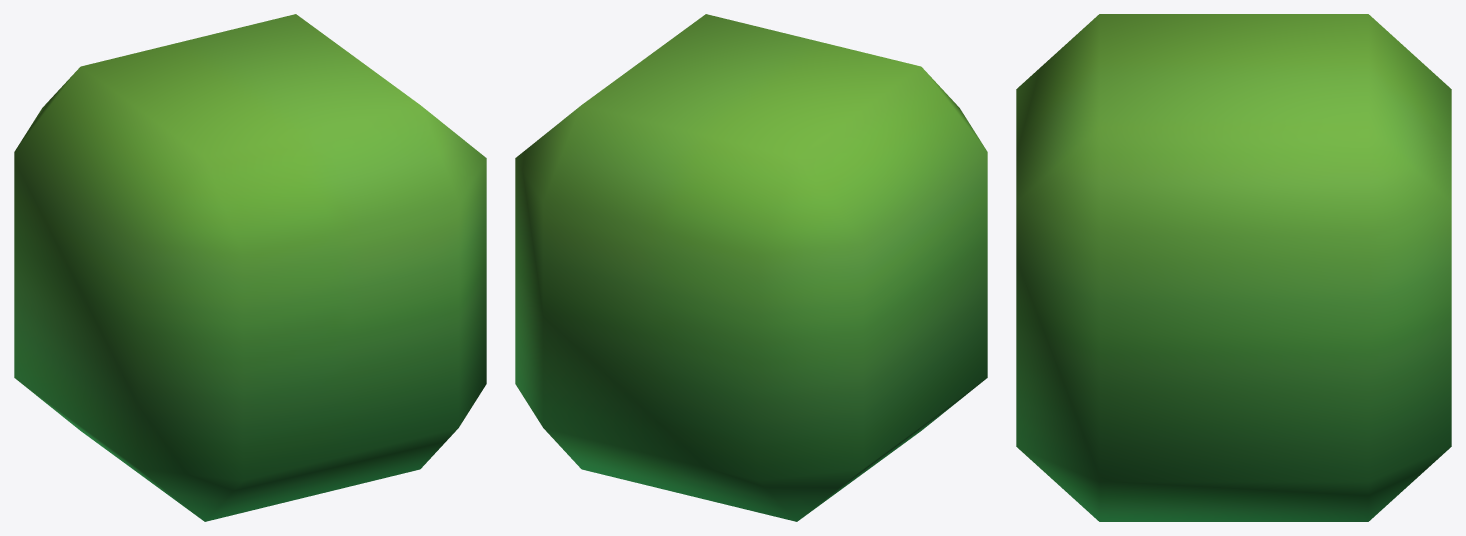
File: Bush_2_A_Color1.glb
3 views of the same model, side by side, from view 1: azimuth 30°, elevation 25°; view 2: azimuth 150°, elevation 25°; view 3: azimuth 270°, elevation 25° (orthographic). The views are drawn at different scales.
Parts seen in each view (by area): view 1: Bush_2_A_Color1; view 2: Bush_2_A_Color1; view 3: Bush_2_A_Color1.
Boxes of the visible parts, <box> form: Bush_2_A_Color1: <box>14,14,486,521</box>; Bush_2_A_Color1: <box>515,14,987,521</box>; Bush_2_A_Color1: <box>1016,14,1451,521</box>.
Size of the model in its own units: 0.528 by 0.528 by 0.528.
1 material, 1 textured.
